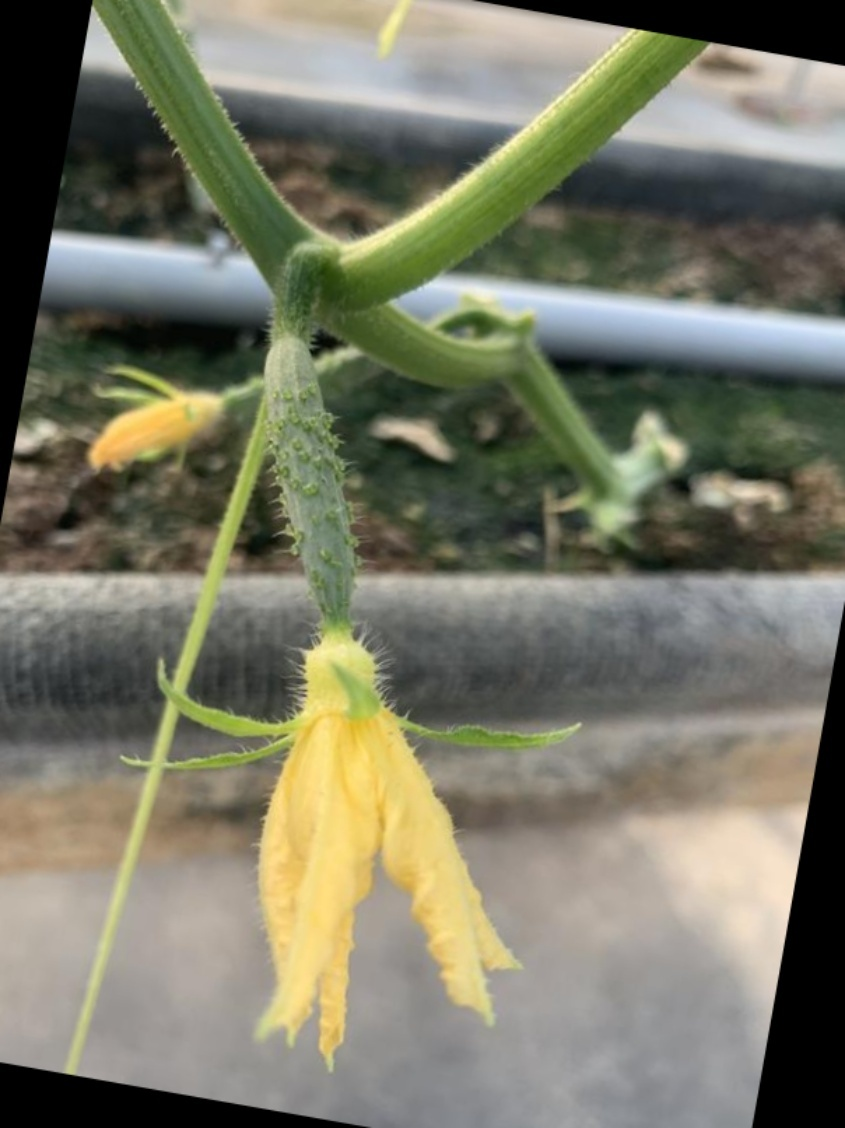bear: (212, 319, 570, 1039)
